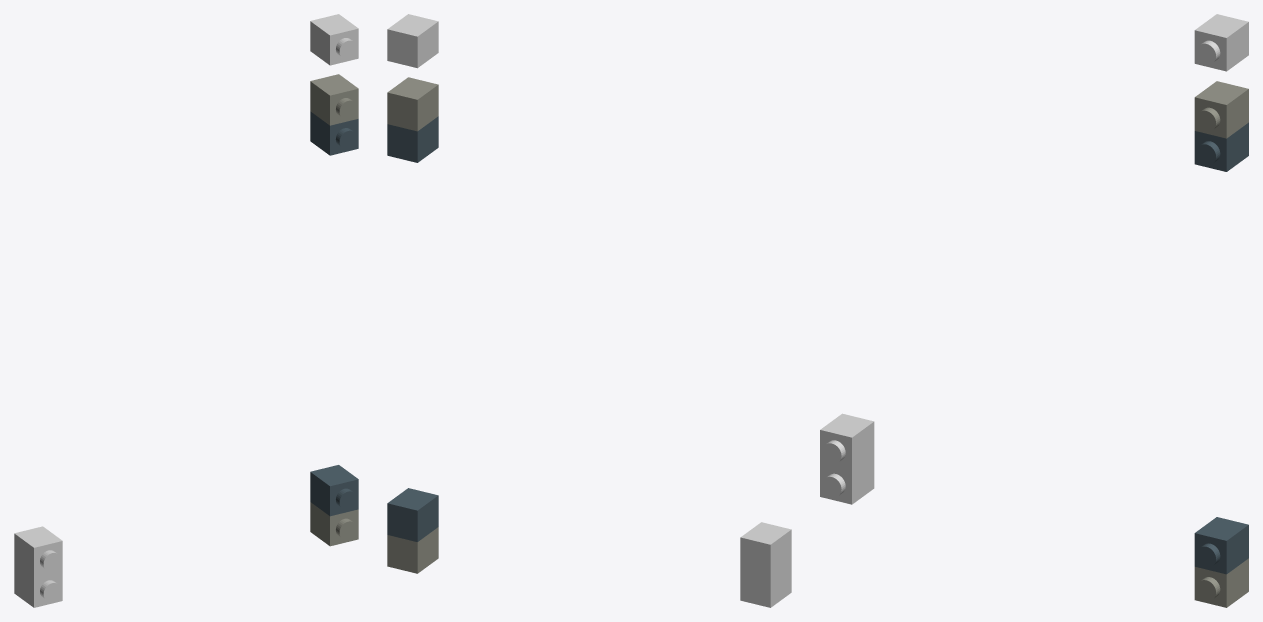
File: current.glb
The picture shows the model from 3 angles, left to right: view 1: azimuth 30°, elevation 25°; view 2: azimuth 150°, elevation 25°; view 3: azimuth 330°, elevation 25°; orthographic projection. The views are drawn at different scales.
Parts seen in each view (by area): view 1: world; view 2: world; view 3: world.
Part boxes in pixels (x1,y1,x2,y2): world: (14, 14, 358, 607); world: (387, 14, 791, 607); world: (820, 14, 1248, 607).
Bounding box in the file's own units: 96 × 136 × 21.
